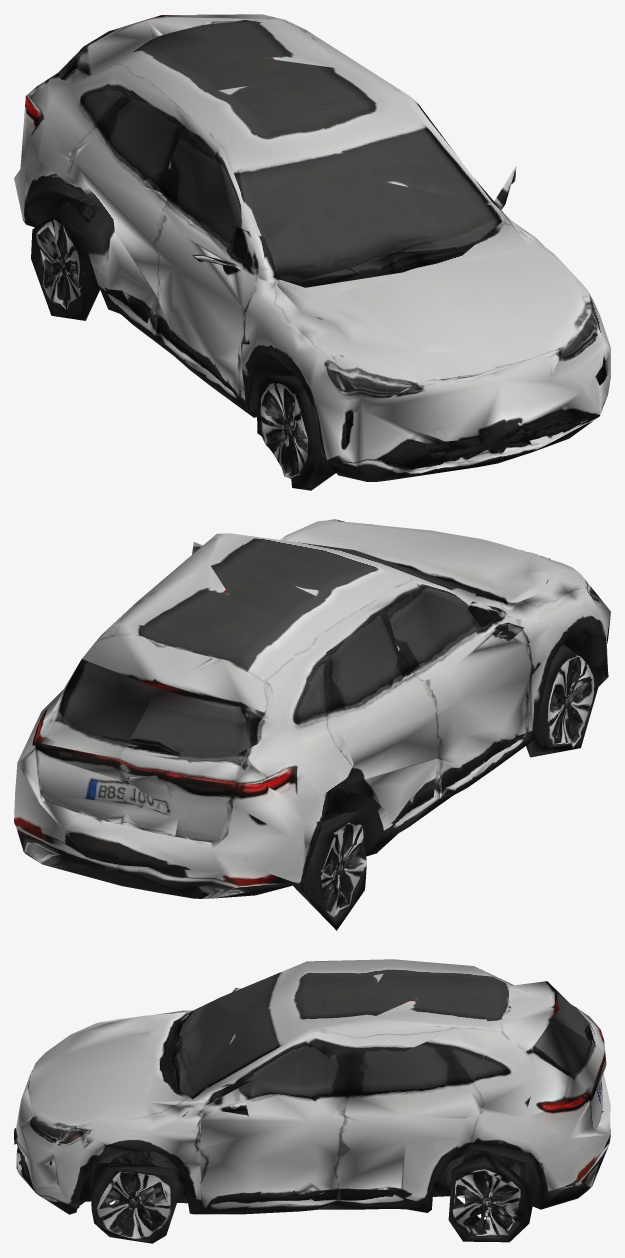
File: car_suv_lod1.glb
3 views of the same model, one above another, from view 1: azimuth 30°, elevation 25°; view 2: azimuth 150°, elevation 25°; view 3: azimuth 270°, elevation 25° (orthographic). The views are drawn at different scales.
Visible parts, largest first — view 1: tripo_node_8c5399f9-dbeb-4aed-8dcd-e58fa2274673; view 2: tripo_node_8c5399f9-dbeb-4aed-8dcd-e58fa2274673; view 3: tripo_node_8c5399f9-dbeb-4aed-8dcd-e58fa2274673.
Boxes of the visible parts, <box> form: tripo_node_8c5399f9-dbeb-4aed-8dcd-e58fa2274673: <box>14,14,610,490</box>; tripo_node_8c5399f9-dbeb-4aed-8dcd-e58fa2274673: <box>14,519,610,930</box>; tripo_node_8c5399f9-dbeb-4aed-8dcd-e58fa2274673: <box>14,959,610,1243</box>.
Bounding box in the file's own units: 2.06 × 1.58 × 4.21.
Materials: 1 (1 with a texture image).
